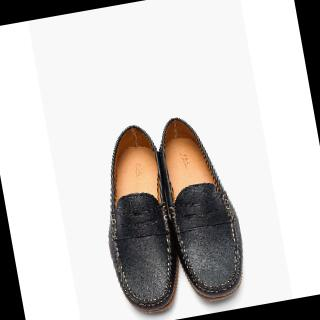loafers: (85, 107, 254, 320)
